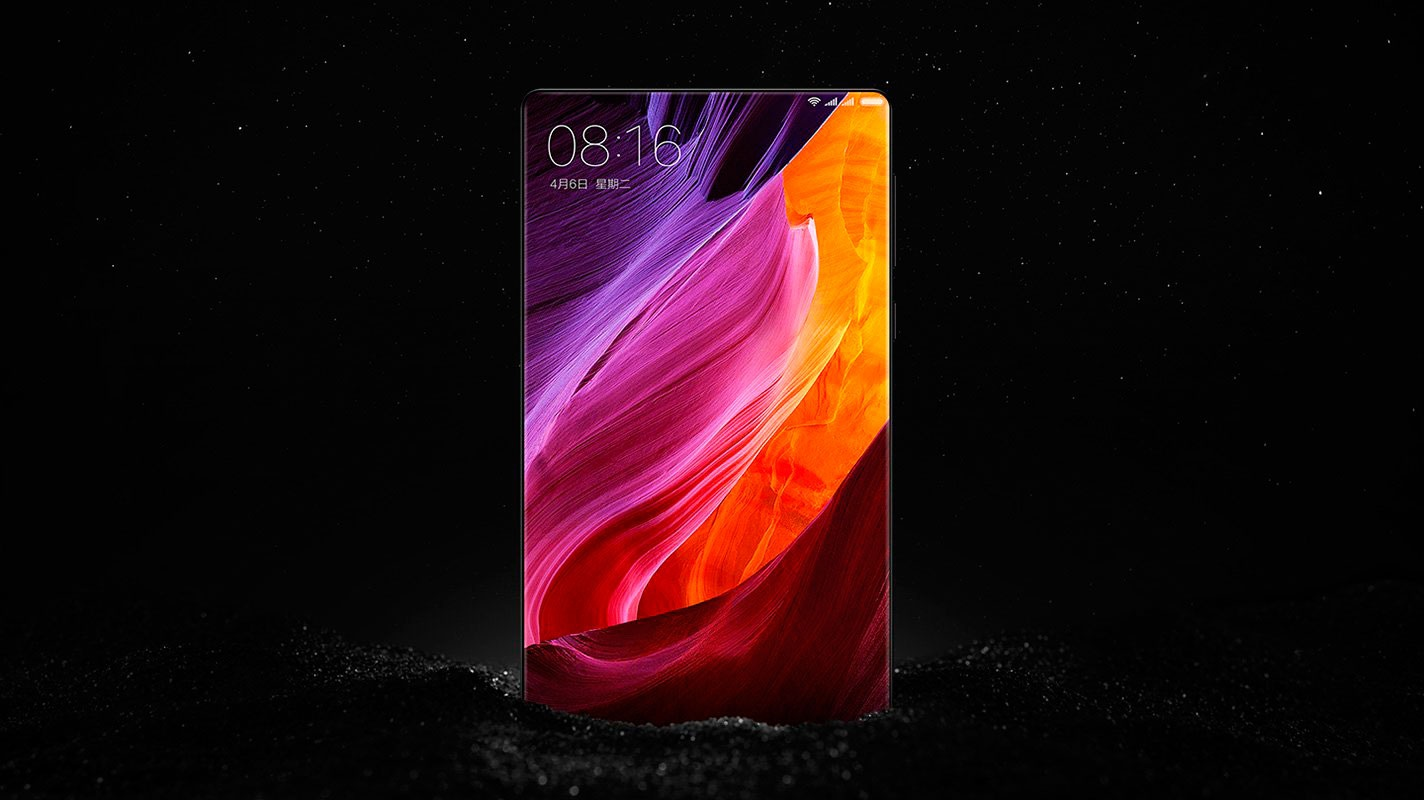smartphone: (520, 87, 893, 726)
